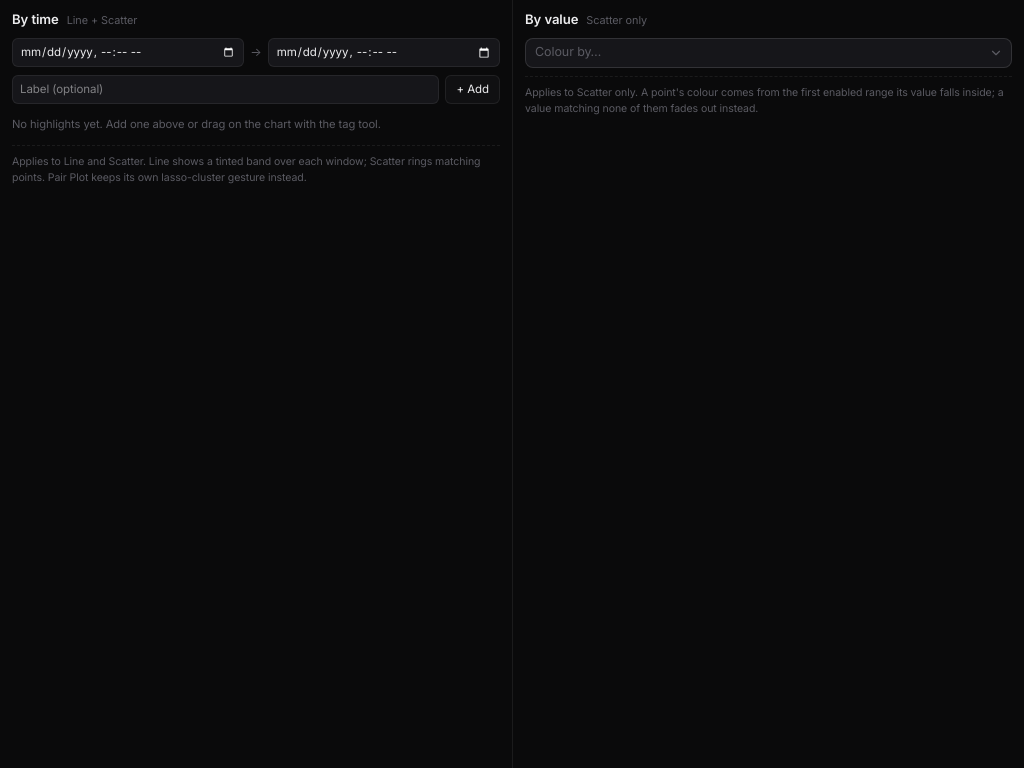
Test: HighlightsPanel › By time (highlights) › rejects start >= end with an inline error
Type "2026-01-01T02:00" into the 1st field.
click(128, 52); type("2026-01-01T02:00")  # box left=12, top=38, right=244, bottom=67
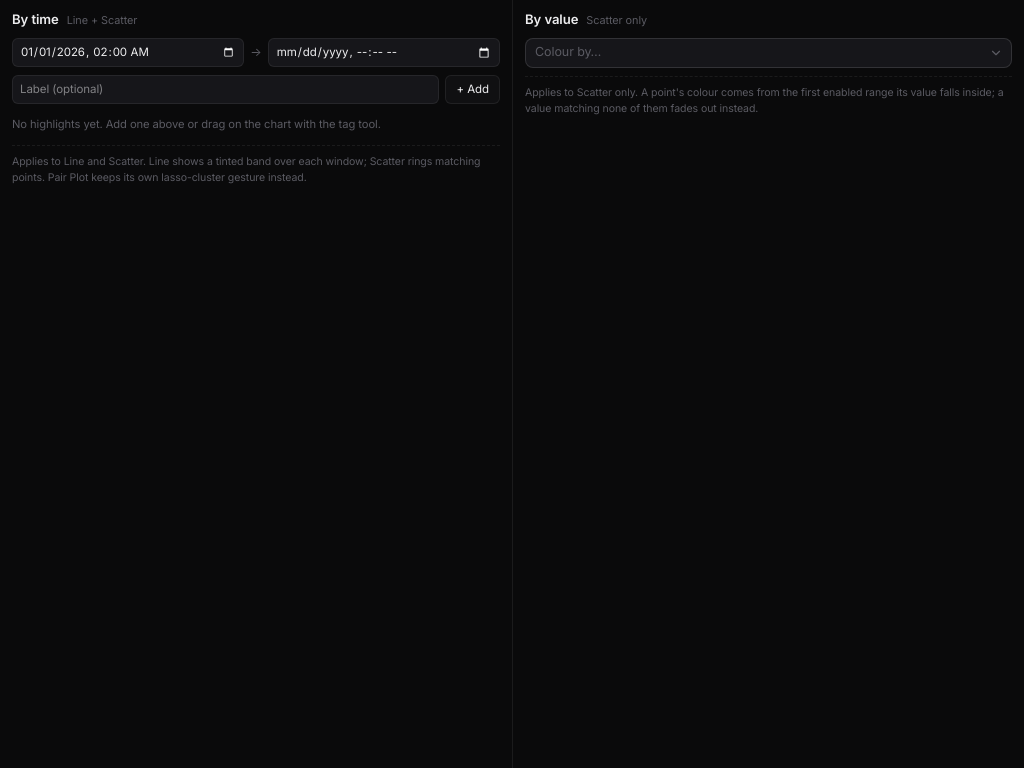
Type "2026-01-01T01:00" into the 2nd field.
click(384, 52); type("2026-01-01T01:00")  # box left=268, top=38, right=500, bottom=67
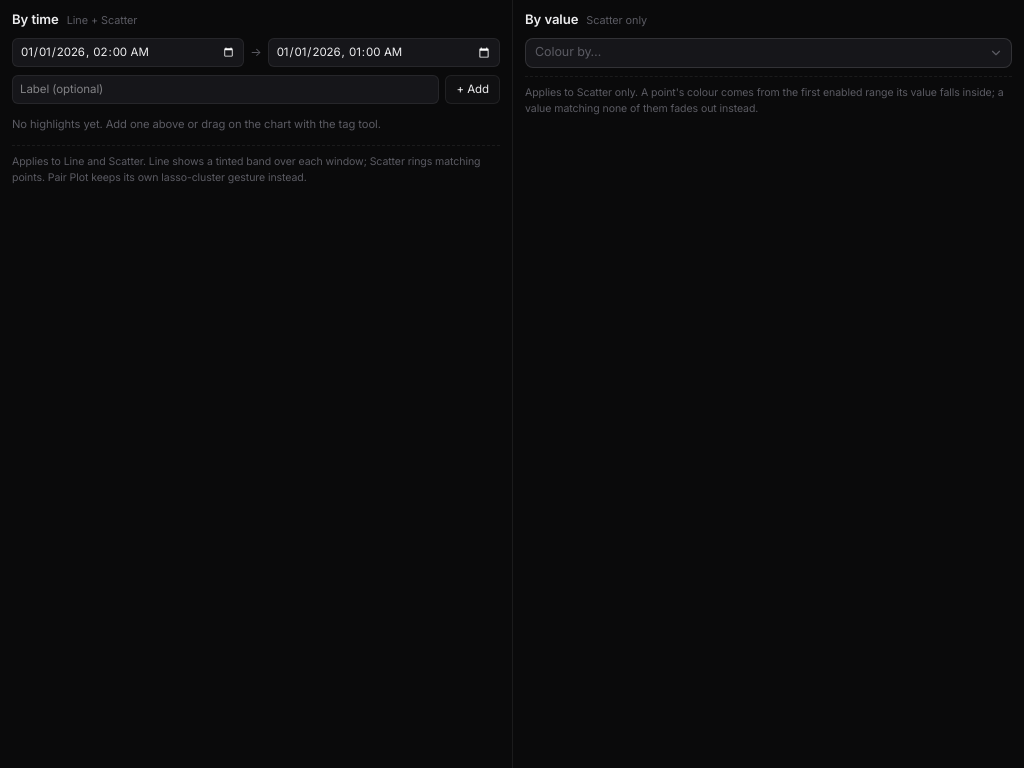
Click the button "+ Add".
click(473, 90)  # box left=446, top=75, right=500, bottom=104
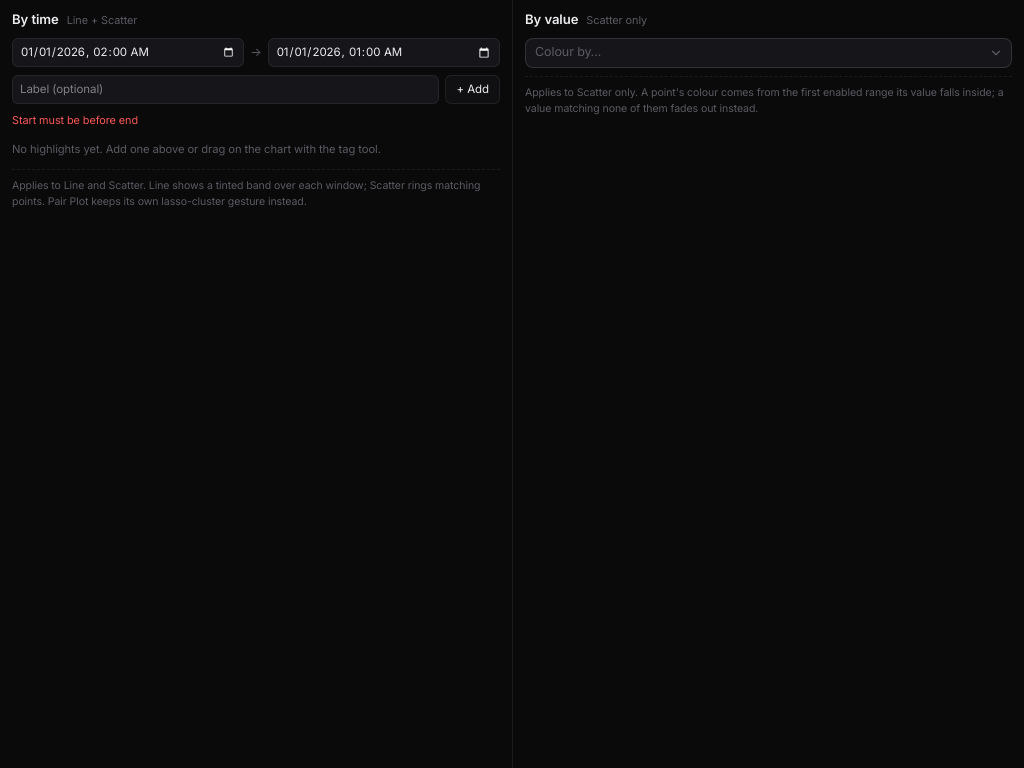
Result: the text "Start must be before end" is shown at left=12, top=113, right=138, bottom=127
